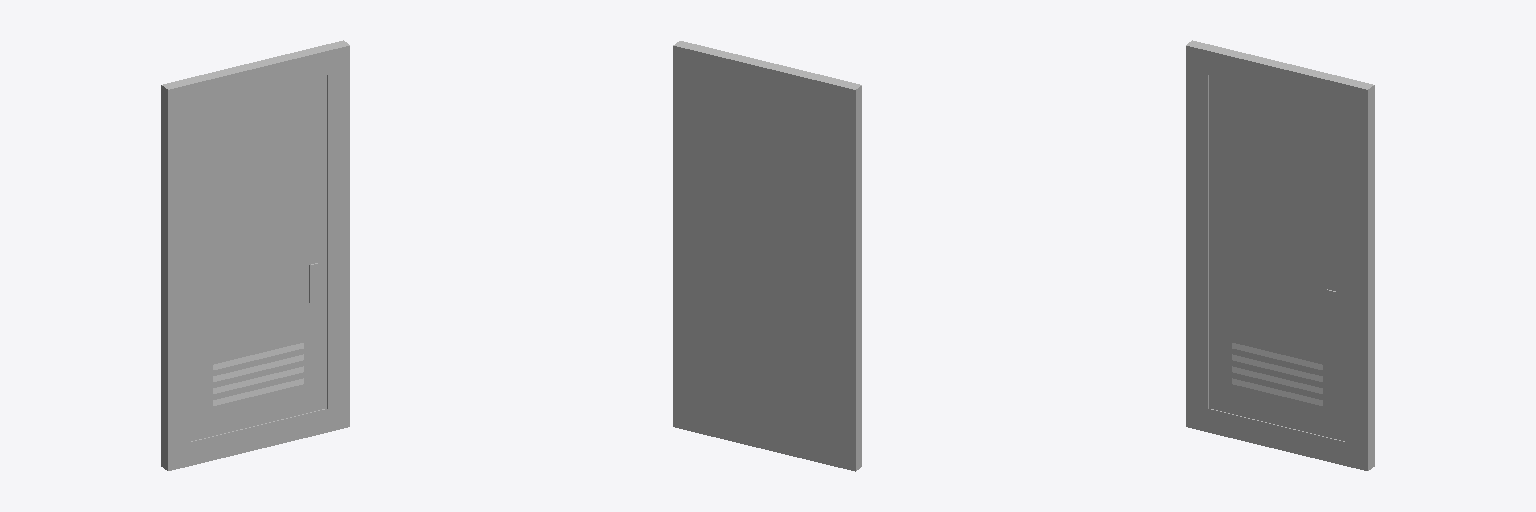
File: regular_door.obj
The picture shows the model from 3 angles: view 1: azimuth 30°, elevation 25°; view 2: azimuth 150°, elevation 25°; view 3: azimuth 330°, elevation 25°; orthographic projection.
Visible parts, largest first — view 1: regular_door; view 2: regular_door; view 3: regular_door.
Part boxes in pixels (left/top/right/bottom): regular_door: left=161, top=40, right=349, bottom=470; regular_door: left=673, top=41, right=861, bottom=471; regular_door: left=1186, top=40, right=1374, bottom=470.
Bounding box in the file's own units: 1 × 2 × 0.0677.